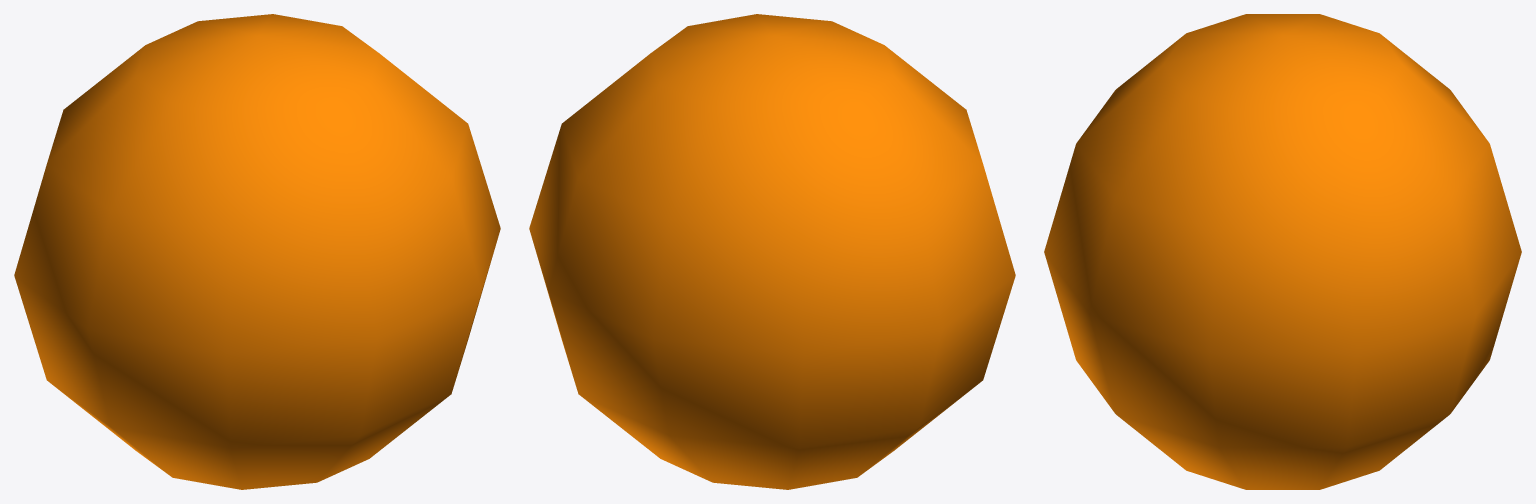
Rendered from SM_Props_Pool_07.fbx.
The picture shows the model from 3 angles, left to right: view 1: azimuth 30°, elevation 25°; view 2: azimuth 150°, elevation 25°; view 3: azimuth 270°, elevation 25°; orthographic projection.
Parts seen in each view (by area): view 1: SM_Props_Pool_07; view 2: SM_Props_Pool_07; view 3: SM_Props_Pool_07.
Boxes of the visible parts, <box> form: SM_Props_Pool_07: <box>14,14,500,489</box>; SM_Props_Pool_07: <box>529,14,1015,489</box>; SM_Props_Pool_07: <box>1044,14,1521,489</box>.
Size of the model in its own units: 0.08 by 0.08 by 0.08.
